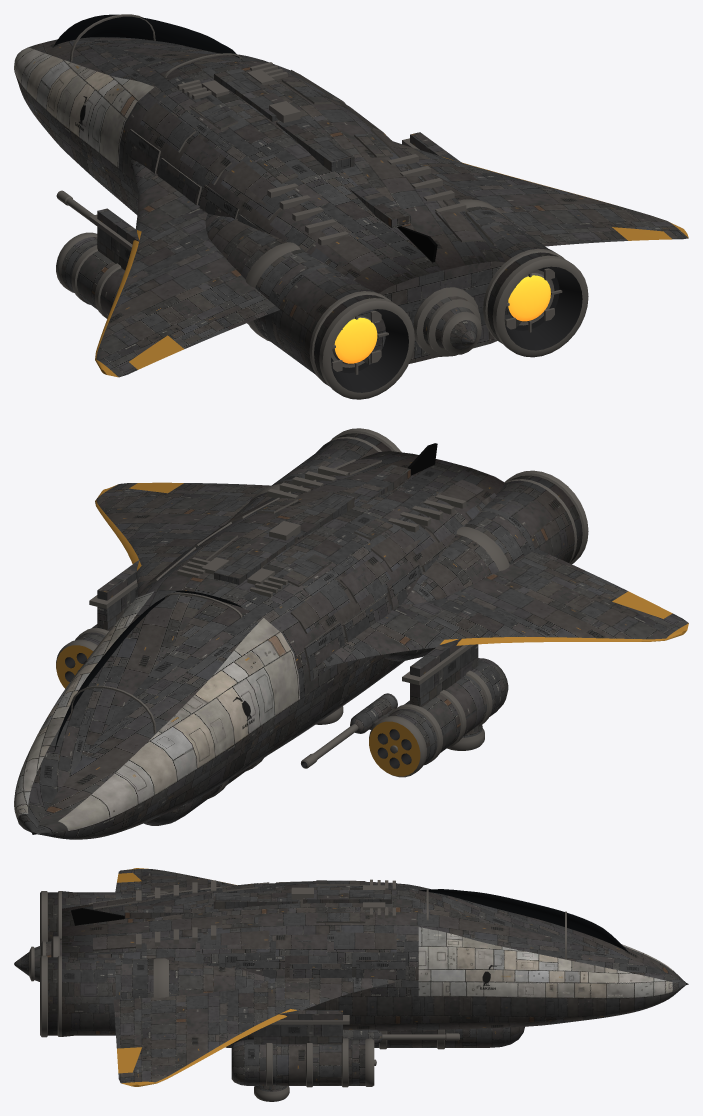
Rendered from baklan_lod0.glb.
3 views of the same model, one above another, from view 1: azimuth 30°, elevation 25°; view 2: azimuth 150°, elevation 25°; view 3: azimuth 270°, elevation 25° (orthographic). The views are drawn at different scales.
Visible parts, largest first — view 1: Hull, Wing_L, MainNozzle_L, MainNozzle_R, Wing_R, Pod_L, Canopy, Pod_R; view 2: Hull, Wing_L, MainNozzle_L, Pod_L, Wing_R, Pod_R, MainNozzle_R, Canopy, Guns, Tank; view 3: Hull, Wing_R, MainNozzle_R, Pod_R, Canopy, Tank, MainNozzle_L, Wing_L, Guns, LiftEngine_R.
Boxes of the visible parts, x1=… form: Hull: x1=14, y1=37, x2=520, y2=364; Wing_L: x1=95, y1=159, x2=279, y2=377; MainNozzle_L: x1=205, y1=214, x2=414, y2=399; MainNozzle_R: x1=430, y1=173, x2=588, y2=357; Wing_R: x1=393, y1=141, x2=688, y2=246; Pod_L: x1=56, y1=208, x2=139, y2=318; Canopy: x1=53, y1=14, x2=242, y2=78; Pod_R: x1=402, y1=132, x2=462, y2=163; Hull: x1=14, y1=443, x2=505, y2=839; Wing_L: x1=317, y1=549, x2=688, y2=669; MainNozzle_L: x1=383, y1=470, x2=588, y2=661; Pod_L: x1=369, y1=638, x2=508, y2=777; Wing_R: x1=95, y1=482, x2=270, y2=595; Pod_R: x1=56, y1=559, x2=139, y2=688; MainNozzle_R: x1=226, y1=428, x2=401, y2=523; Canopy: x1=54, y1=590, x2=242, y2=753; Guns: x1=301, y1=693, x2=397, y2=768; Tank: x1=144, y1=757, x2=264, y2=825; Hull: x1=14, y1=879, x2=688, y2=1032; Wing_R: x1=113, y1=977, x2=396, y2=1086; MainNozzle_R: x1=40, y1=955, x2=271, y2=1037; Pod_R: x1=231, y1=1010, x2=376, y2=1087; Canopy: x1=419, y1=889, x2=629, y2=959; Tank: x1=225, y1=1026, x2=524, y2=1049; MainNozzle_L: x1=40, y1=891, x2=169, y2=945; Wing_L: x1=115, y1=868, x2=236, y2=892; Guns: x1=343, y1=1029, x2=459, y2=1044; LiftEngine_R: x1=254, y1=1085, x2=289, y2=1101.
Size of the model in its own units: 10.79 by 3.79 by 14.2.
Materials: 10 (5 with a texture image).
